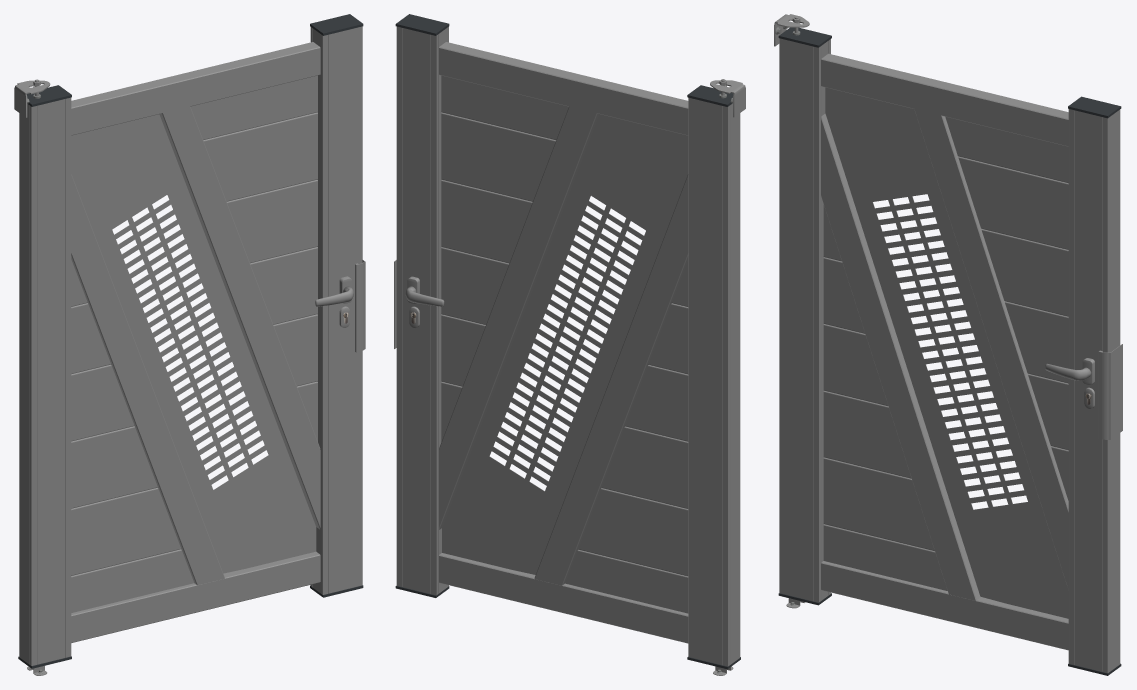
The picture shows the model from 3 angles, left to right: view 1: azimuth 30°, elevation 25°; view 2: azimuth 150°, elevation 25°; view 3: azimuth 330°, elevation 25°; orthographic projection.
Parts seen in each view (by area): view 1: Shape107412683, maille rectangulaire, Shape107412643, Shape107412644, Shape107412675, Shape107412676, Shape095, Shape096, Shape107412637, Box2403, Rectangle057, Box2401; view 2: Shape107412683, maille rectangulaire, Shape107412643, Shape107412644, Shape107412675, Shape107412676, Shape095, Shape096, Box2403, Rectangle057, Box2401; view 3: Shape107412683, maille rectangulaire, Shape107412644, Shape107412643, Shape107412676, Shape107412675, Shape095, Shape096, Shape107412637, Box2403, Box2401.
Boxes of the visible parts, box(x1,y1,x2,y2) form: Shape107412683: box(71, 75, 317, 612); maille rectangulaire: box(71, 114, 316, 573); Shape107412643: box(19, 97, 71, 665); Shape107412644: box(310, 26, 362, 594); Shape107412675: box(159, 106, 320, 529); Shape107412676: box(71, 174, 224, 585); Shape095: box(71, 42, 320, 135); Shape096: box(71, 551, 320, 642); Shape107412637: box(355, 260, 365, 352); Box2403: box(310, 14, 363, 35); Rectangle057: box(14, 80, 50, 117); Box2401: box(26, 85, 71, 106); Shape107412683: box(441, 75, 688, 613); maille rectangulaire: box(442, 114, 688, 574); Shape107412643: box(688, 97, 740, 666); Shape107412644: box(396, 26, 448, 595); Shape107412675: box(438, 105, 599, 529); Shape107412676: box(534, 174, 688, 585); Shape095: box(438, 42, 688, 135); Shape096: box(438, 553, 688, 643); Box2403: box(395, 14, 449, 35); Rectangle057: box(710, 80, 745, 117); Box2401: box(687, 85, 733, 106); Shape107412683: box(823, 116, 1068, 590); maille rectangulaire: box(825, 87, 1068, 618); Shape107412644: box(1068, 109, 1120, 672); Shape107412643: box(779, 38, 830, 602); Shape107412676: box(821, 113, 980, 600); Shape107412675: box(914, 109, 1068, 589); Shape095: box(821, 53, 1068, 146); Shape096: box(821, 561, 1068, 650); Shape107412637: box(1098, 344, 1122, 439); Box2403: box(1068, 96, 1121, 118); Box2401: box(778, 27, 831, 47).
Size of the model in its own units: 1014 by 1688 by 171.
8 materials, 4 textured.
